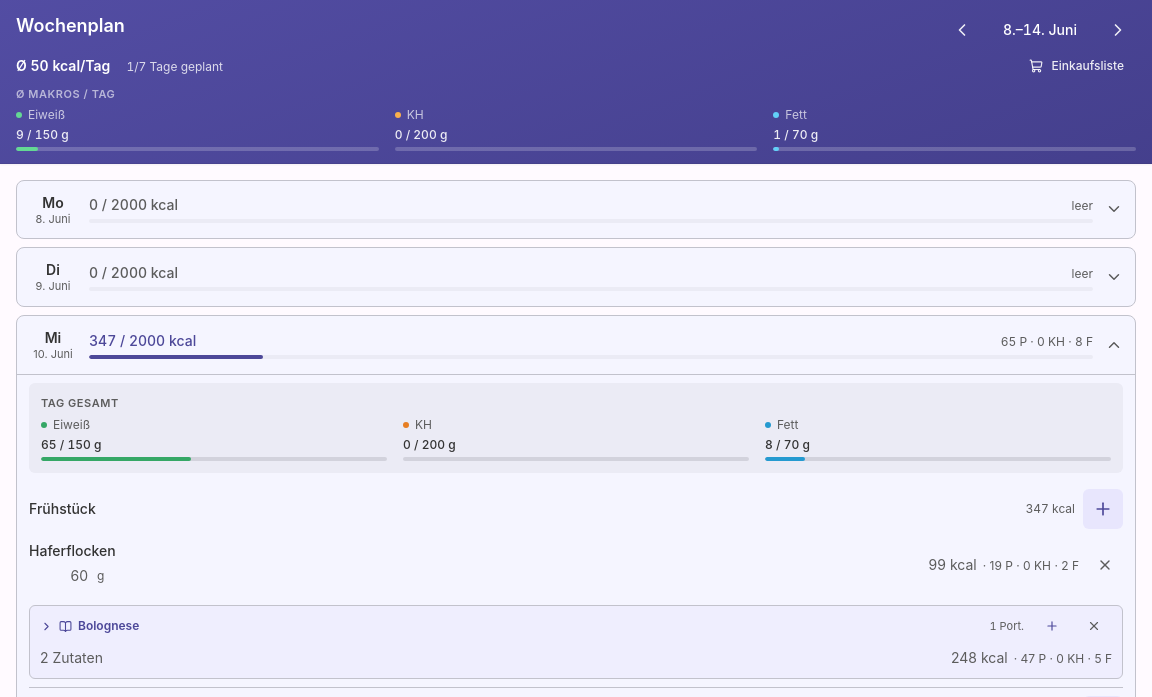
Test: PlannerScreen — daily-log parity in slot bodies › persists an inline amount edit from the planner via the same PATCH flow the diary uses
Check: the text "Haferflocken" is shown, box [29,541,116,561]
Replace the text in the field with "250" at (61, 576), box [29,563,93,589]
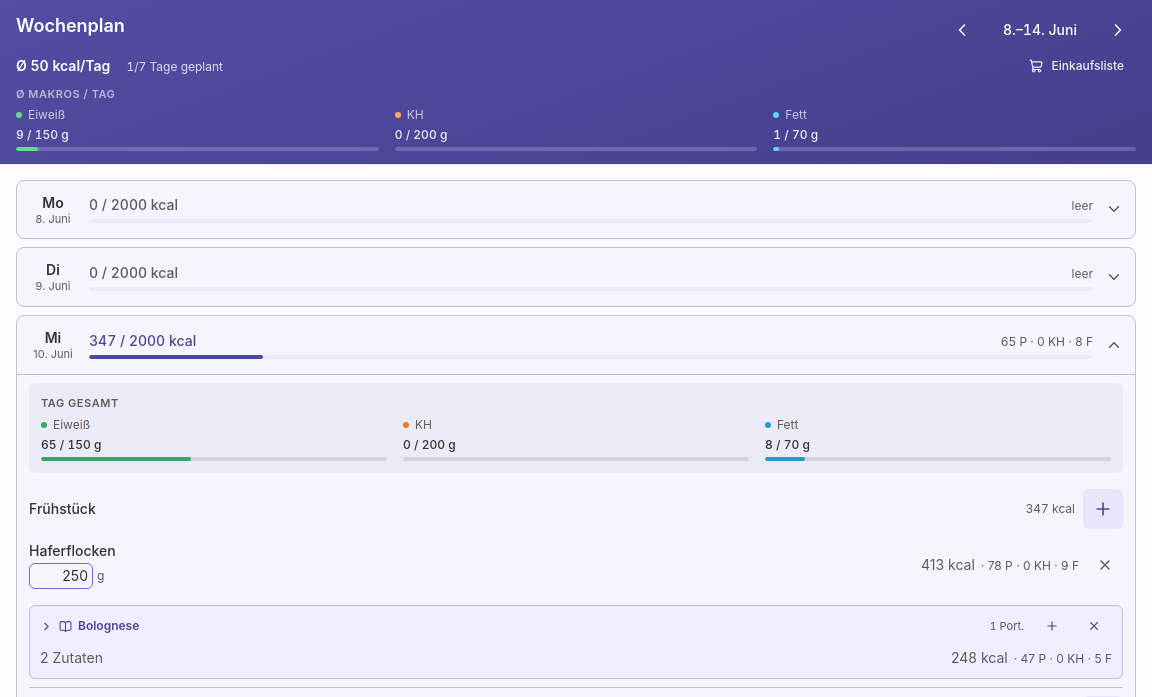
Check: the text "413 kcal" is shown, box [921,555,975,575]
